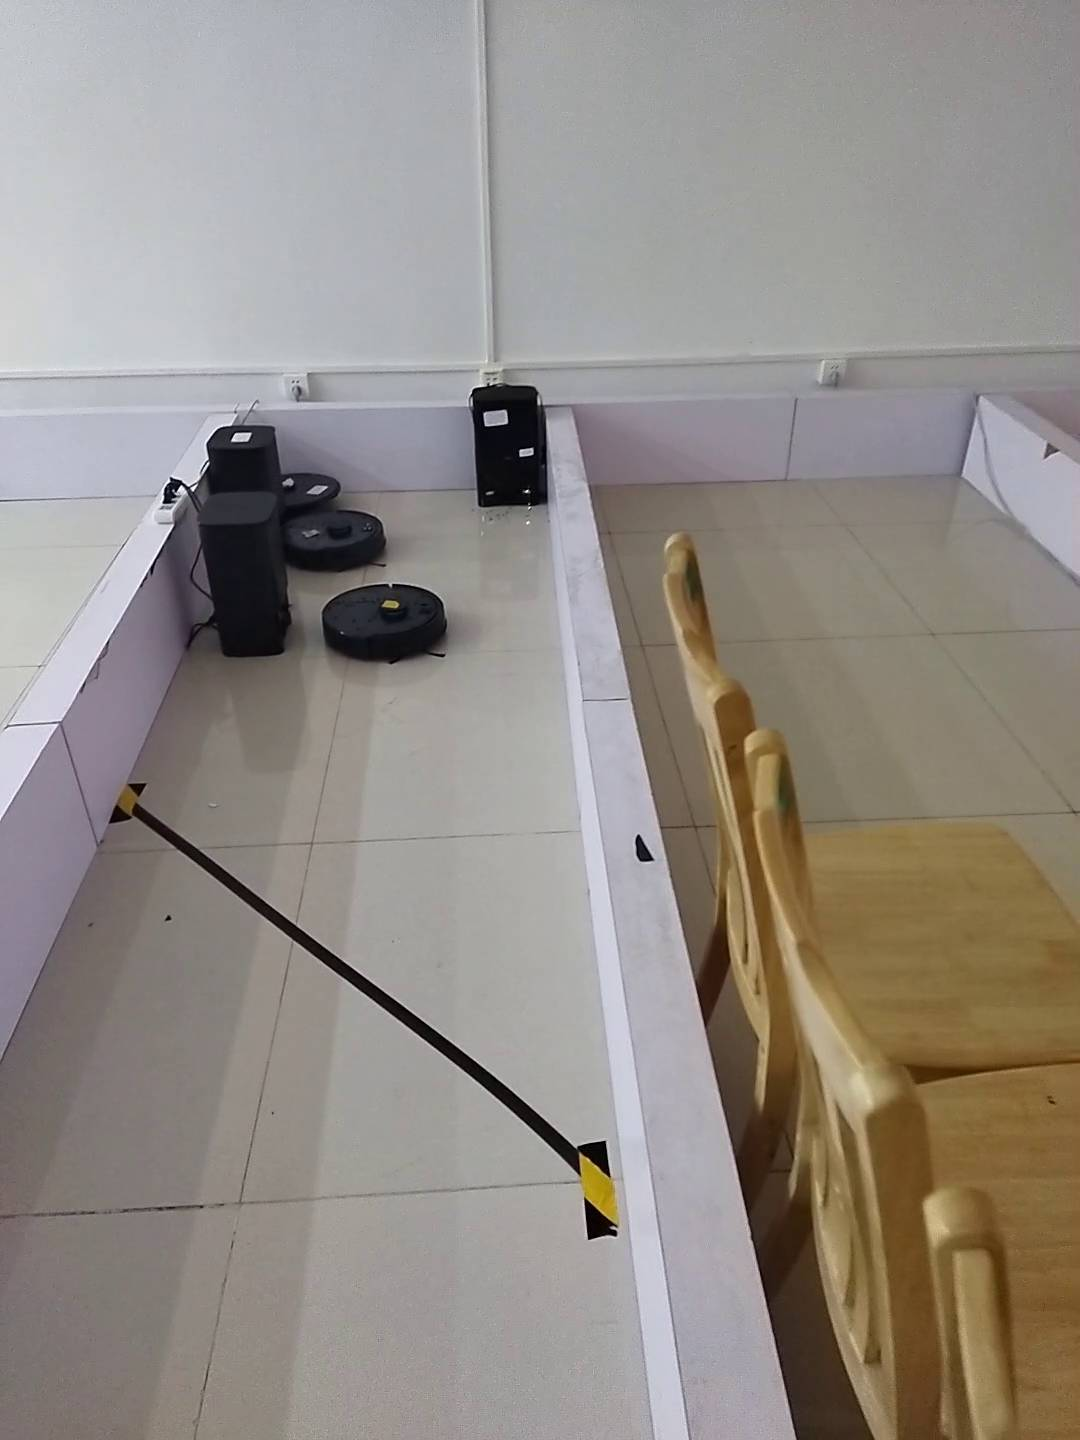dust collecting barrel: (196, 489, 282, 657), (473, 387, 546, 505)
